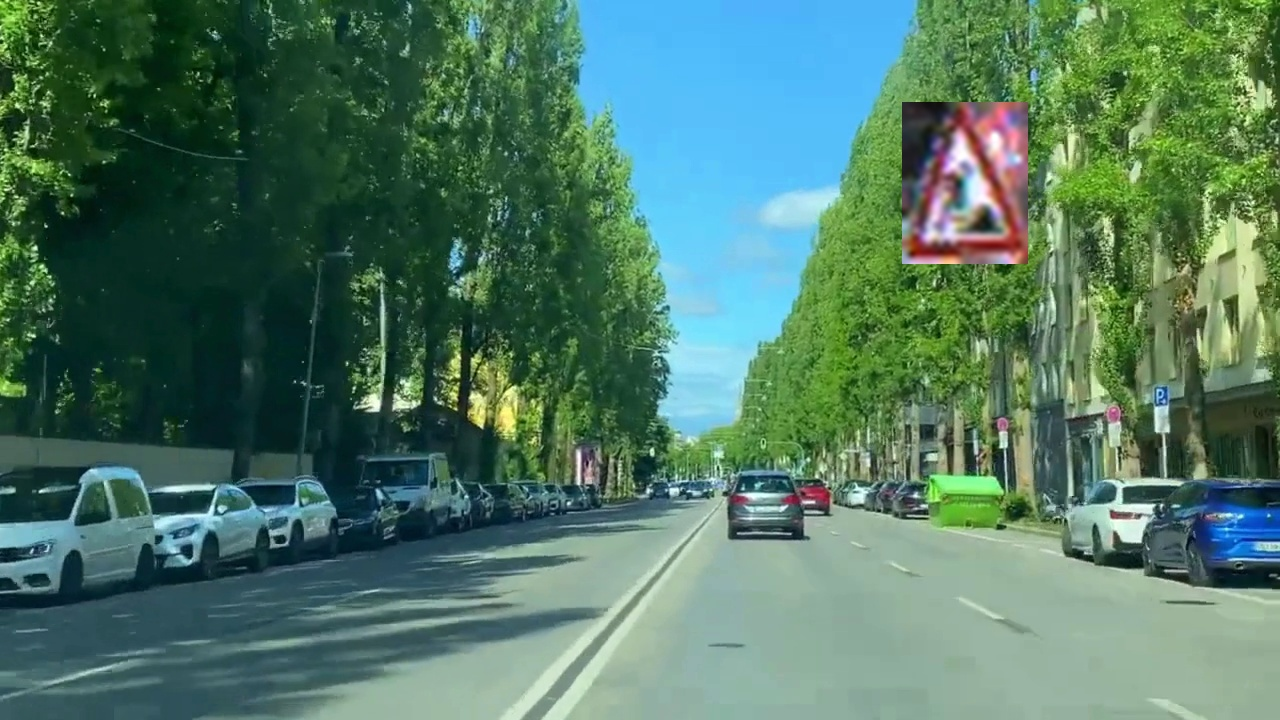Road work: (902, 102, 1028, 264)
